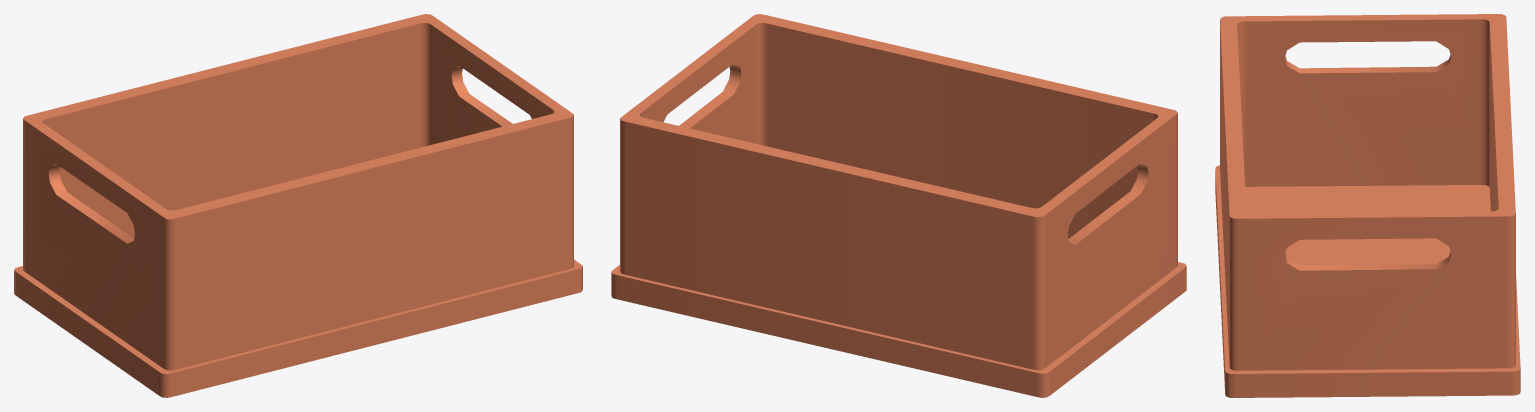
The model's file is PROJECT DREAM - Bedroom - Container.fbx.
The picture shows the model from 3 angles, left to right: view 1: azimuth 30°, elevation 25°; view 2: azimuth 150°, elevation 25°; view 3: azimuth 270°, elevation 25°; orthographic projection.
Parts seen in each view (by area): view 1: Bedroom - Container; view 2: Bedroom - Container; view 3: Bedroom - Container.
Boxes of the visible parts, x1,y1,x2,y2 form: Bedroom - Container: [14, 14, 582, 397]; Bedroom - Container: [611, 14, 1186, 397]; Bedroom - Container: [1215, 14, 1520, 397].
Bounding box in the file's own units: 123 × 47.88 × 75.26.
